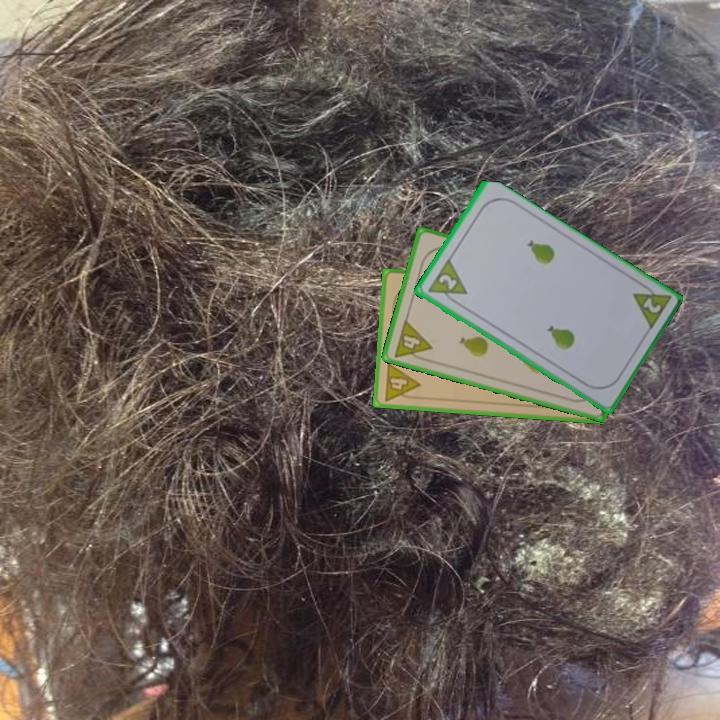2p: (629, 278, 673, 334), (434, 271, 459, 293)
4p: (390, 316, 435, 365), (381, 359, 423, 404)
